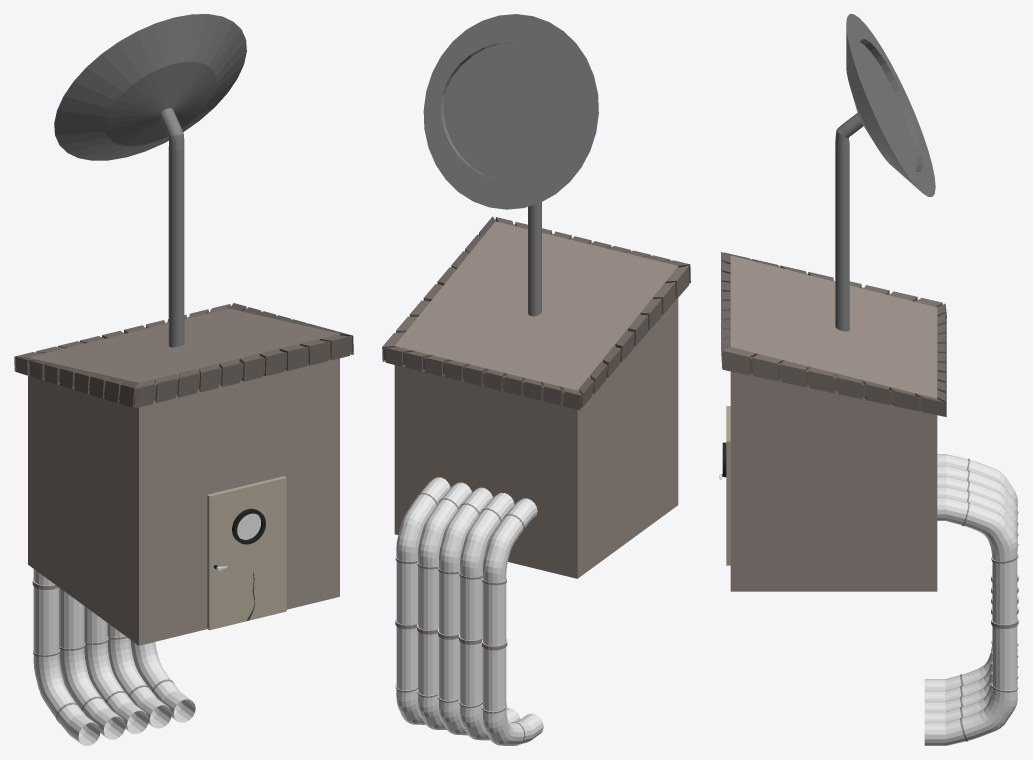
File: entreCave.fbx
3 renders of one model, left to right at view 1: azimuth 30°, elevation 25°; view 2: azimuth 150°, elevation 25°; view 3: azimuth 270°, elevation 25°, orthographic. The views are drawn at different scales.
Parts seen in each view (by area): view 1: Circle.016; view 2: Circle.016; view 3: Circle.016.
Boxes of the visible parts, x1,y1,x2,y2 form: Circle.016: (14, 14, 353, 745); Circle.016: (382, 14, 690, 745); Circle.016: (719, 14, 1018, 745).
Bounding box in the file's own units: 430 × 1401 × 545.
